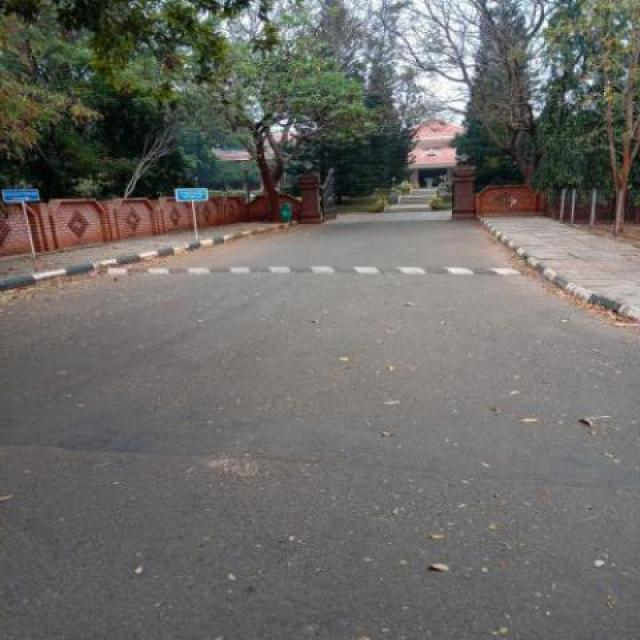Speed Bump: (96, 264, 535, 278)
